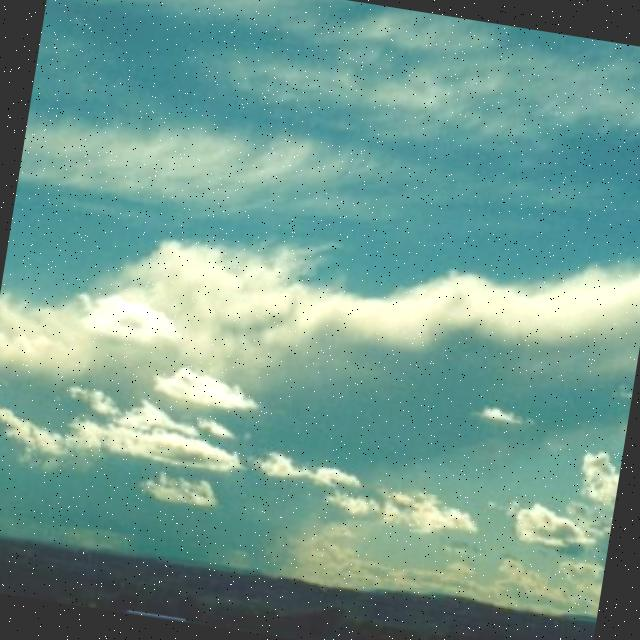Ci: (1, 22, 640, 576)
